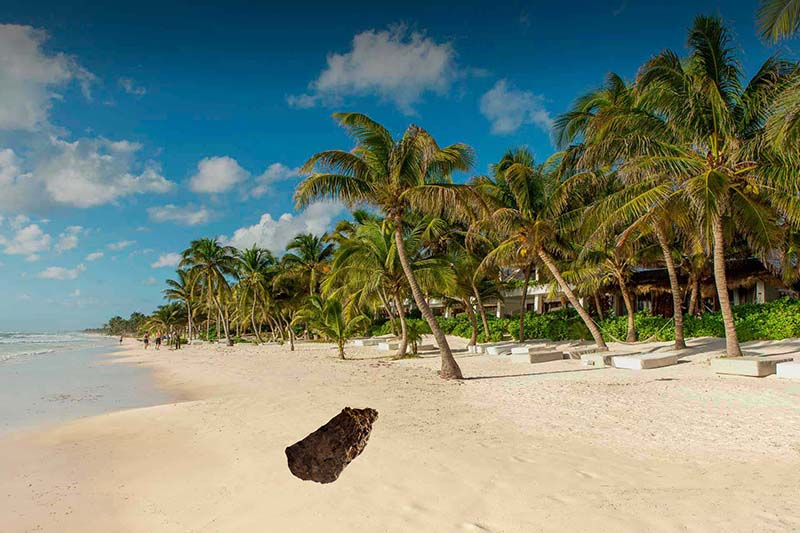Rocks: (284, 405, 381, 487)
